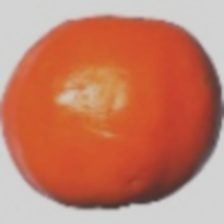tangerine: (22, 6, 200, 185)
